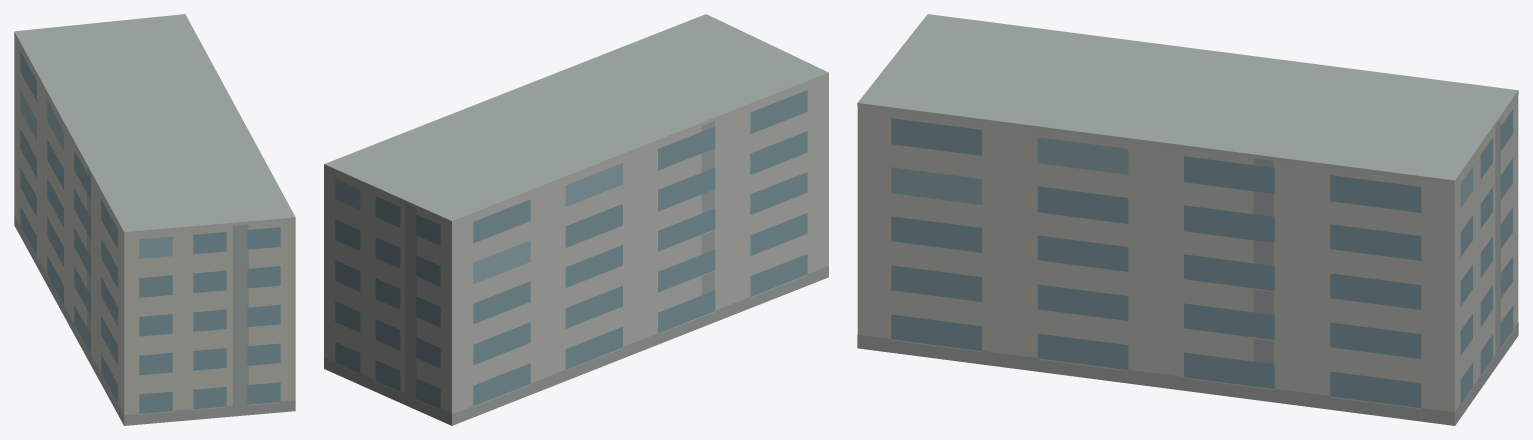
Rendered from residential-8077bf05-f8ad-481f-92d1-7105f94a2f2d.glb.
The picture shows the model from 3 angles, left to right: view 1: azimuth 30°, elevation 25°; view 2: azimuth 150°, elevation 25°; view 3: azimuth 270°, elevation 25°; orthographic projection. The views are drawn at different scales.
Visible parts, largest first — view 1: residential-8077bf05-f8ad-481f-92d1-7105f94a2f2d.tmp; view 2: residential-8077bf05-f8ad-481f-92d1-7105f94a2f2d.tmp; view 3: residential-8077bf05-f8ad-481f-92d1-7105f94a2f2d.tmp.
Boxes of the visible parts, x1=… form: residential-8077bf05-f8ad-481f-92d1-7105f94a2f2d.tmp: x1=14, y1=14, x2=295, y2=425; residential-8077bf05-f8ad-481f-92d1-7105f94a2f2d.tmp: x1=324, y1=14, x2=828, y2=425; residential-8077bf05-f8ad-481f-92d1-7105f94a2f2d.tmp: x1=857, y1=14, x2=1518, y2=425.
Bounding box in the file's own units: 22.2 × 15.25 × 37.24.
